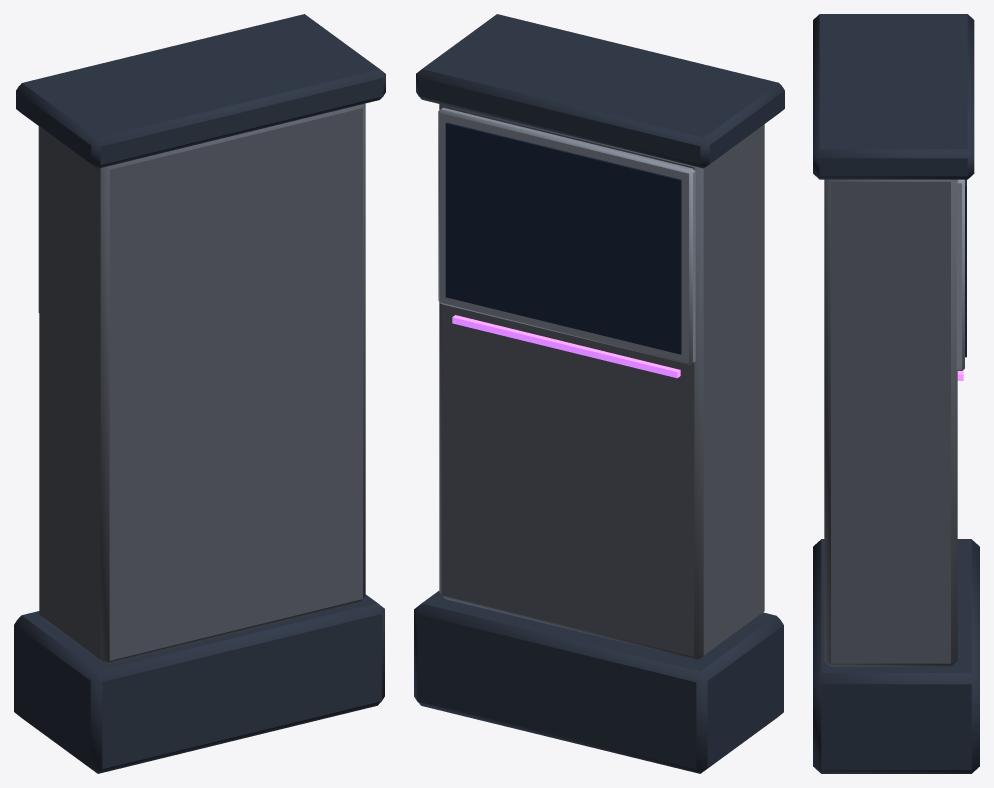
The model's file is plaque.glb.
3 views of the same model, side by side, from view 1: azimuth 30°, elevation 25°; view 2: azimuth 150°, elevation 25°; view 3: azimuth 270°, elevation 25° (orthographic).
Parts seen in each view (by area): view 1: body; view 2: body; view 3: body.
Part boxes in pixels (box(x1,y1,x2,y2)): body: box(14, 14, 385, 773); body: box(414, 14, 784, 773); body: box(813, 14, 979, 773).
Bounding box in the file's own units: 0.6 × 1.24 × 0.3.
